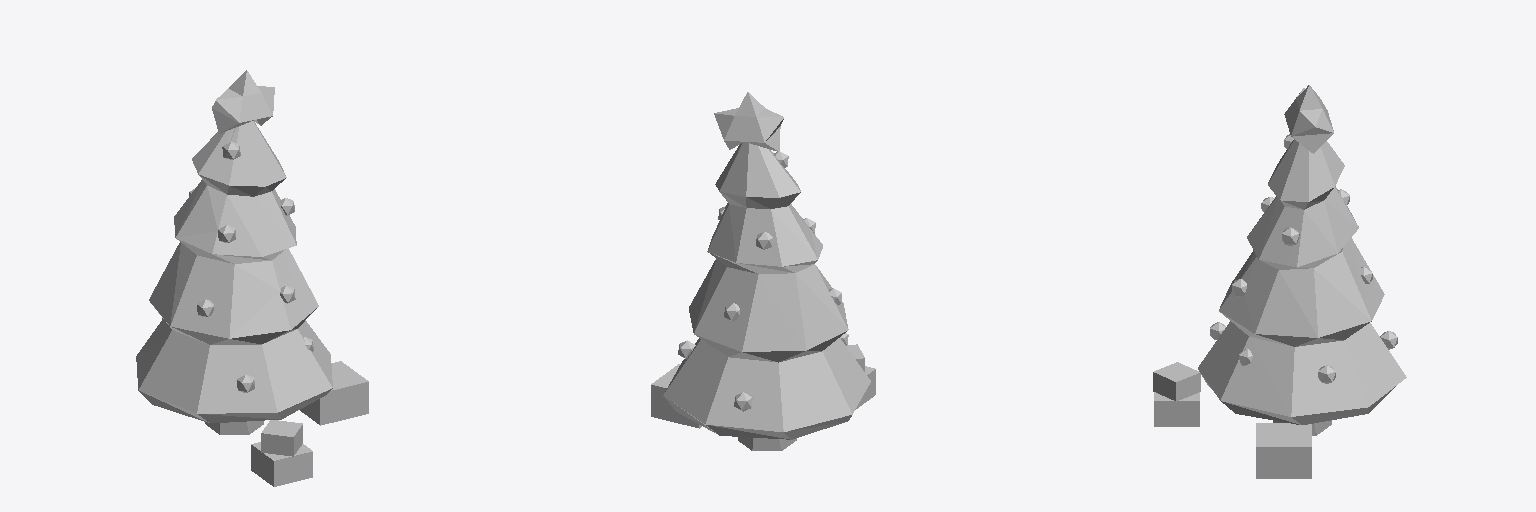
The model's file is Christmas Tree.obj.
The picture shows the model from 3 angles: view 1: azimuth 30°, elevation 25°; view 2: azimuth 150°, elevation 25°; view 3: azimuth 270°, elevation 25°; orthographic projection.
Parts seen in each view (by area): view 1: Cylinder, Cube.003_Cube.004, Cube.001_Cube.002, Cube.002_Cube.003; view 2: Cylinder, Cube.003_Cube.004; view 3: Cylinder, Cube.003_Cube.004, Cube.002_Cube.003, Cube.001_Cube.002.
Part boxes in pixels (left/top/right/bottom): Cylinder: left=136, top=70, right=332, bottom=434; Cube.003_Cube.004: left=300, top=361, right=368, bottom=425; Cube.001_Cube.002: left=251, top=442, right=312, bottom=486; Cube.002_Cube.003: left=261, top=420, right=302, bottom=456; Cylinder: left=663, top=92, right=870, bottom=450; Cube.003_Cube.004: left=651, top=364, right=701, bottom=428; Cylinder: left=1198, top=85, right=1406, bottom=435; Cube.003_Cube.004: left=1256, top=423, right=1311, bottom=478; Cube.002_Cube.003: left=1153, top=362, right=1200, bottom=401; Cube.001_Cube.002: left=1154, top=392, right=1199, bottom=426.
Bounding box in the file's own units: 1.18 × 1.94 × 1.29.